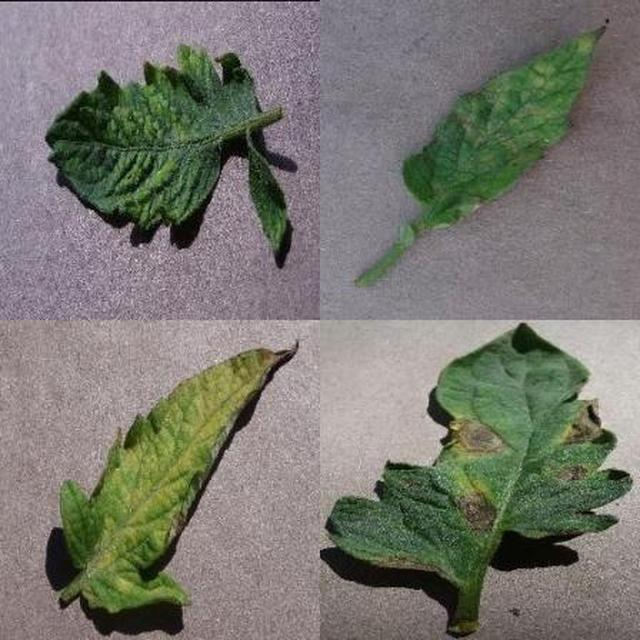Mosaic Virus Leaf: (236, 183, 640, 640)
